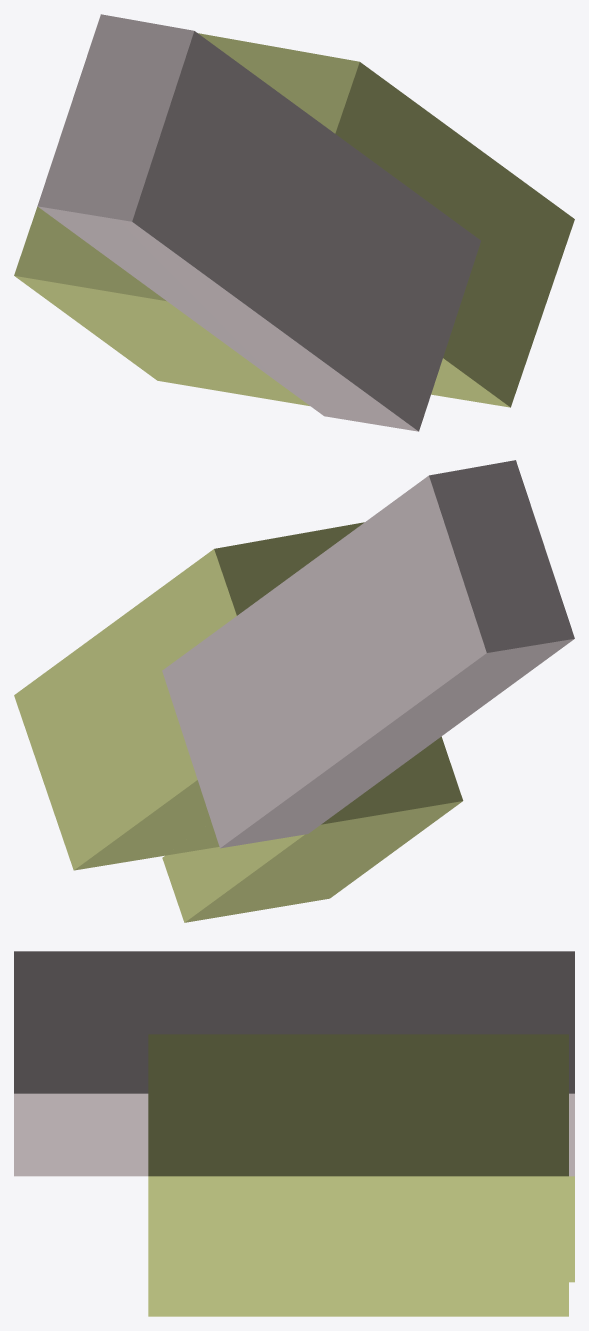
The picture shows the model from 3 angles, top to bottom: view 1: azimuth 30°, elevation 25°; view 2: azimuth 150°, elevation 25°; view 3: azimuth 270°, elevation 25°; orthographic projection. The views are drawn at different scales.
Visible parts, largest first — view 1: 0_1_2_0_1_1_0_0_0_3_0; view 2: 0_1_2_0_1_1_0_0_0_3_0; view 3: 0_1_2_0_1_1_0_0_0_3_0.
Boxes of the visible parts, x1=… form: 0_1_2_0_1_1_0_0_0_3_0: x1=14, y1=14, x2=574, y2=431; 0_1_2_0_1_1_0_0_0_3_0: x1=14, y1=460, x2=574, y2=922; 0_1_2_0_1_1_0_0_0_3_0: x1=14, y1=951, x2=574, y2=1316.
Bounding box in the file's own units: 8.28 × 7.03 × 12.
